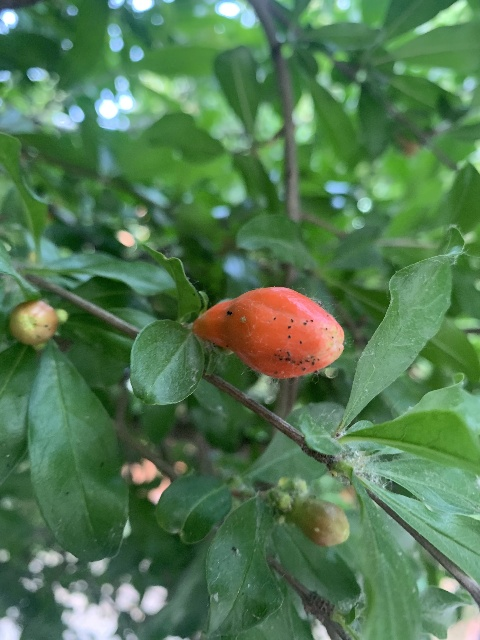bud: (192, 286, 343, 379), (295, 496, 350, 546), (9, 301, 59, 344)
